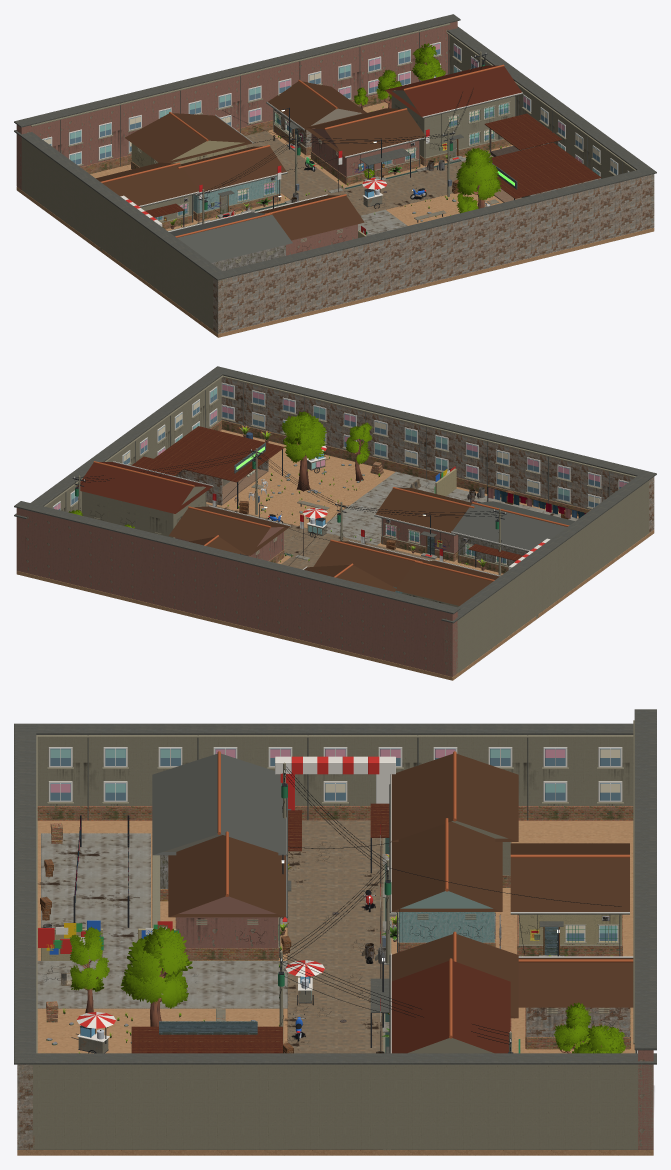
Rendered from gang.glb.
3 views of the same model, one above another, from view 1: azimuth 30°, elevation 25°; view 2: azimuth 150°, elevation 25°; view 3: azimuth 270°, elevation 25° (orthographic). The views are drawn at different scales.
Visible parts, largest first — view 1: statis, CommonTree_1, CommonTree_2.001, CommonTree_2; view 2: statis, CommonTree_1, CommonTree_3; view 3: statis, CommonTree_1, CommonTree_3, CommonTree_2, CommonTree_2.001.
Boxes of the visible parts, box(x1,y1,x2,y2) form: statis: box(14, 14, 656, 337); CommonTree_1: box(456, 148, 501, 208); CommonTree_2.001: box(411, 43, 445, 80); CommonTree_2: box(376, 70, 401, 108); statis: box(14, 366, 656, 680); CommonTree_1: box(281, 411, 326, 491); CommonTree_3: box(346, 422, 372, 481); statis: box(14, 709, 656, 1155); CommonTree_1: box(120, 926, 192, 1026); CommonTree_3: box(69, 926, 109, 1013); CommonTree_2: box(553, 1002, 591, 1053); CommonTree_2.001: box(572, 1024, 623, 1053).
Size of the model in its own units: 50.4 by 8.9 by 40.4.
Materials: 116 (89 with a texture image).
